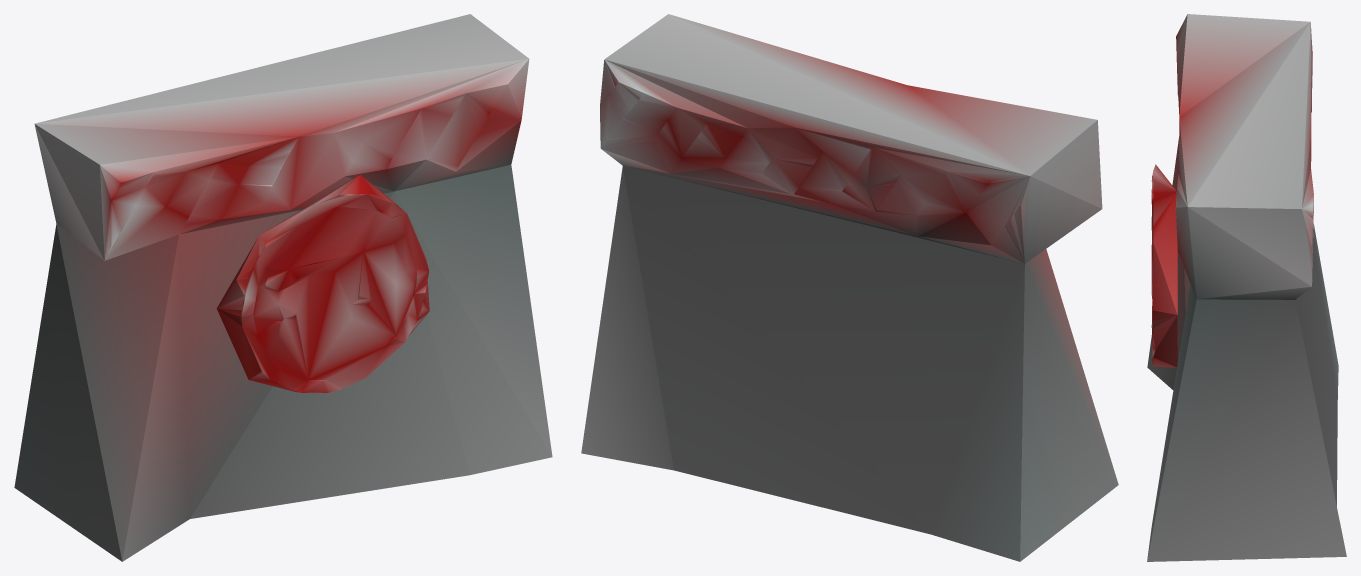
File: block_lo.glb
3 renders of one model, left to right at view 1: azimuth 30°, elevation 25°; view 2: azimuth 150°, elevation 25°; view 3: azimuth 270°, elevation 25°, orthographic. The views are drawn at different scales.
Bounding box in the file's own units: 1.84 × 1.54 × 0.7883.
